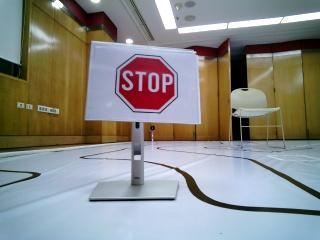stop: (100, 46, 191, 122)
